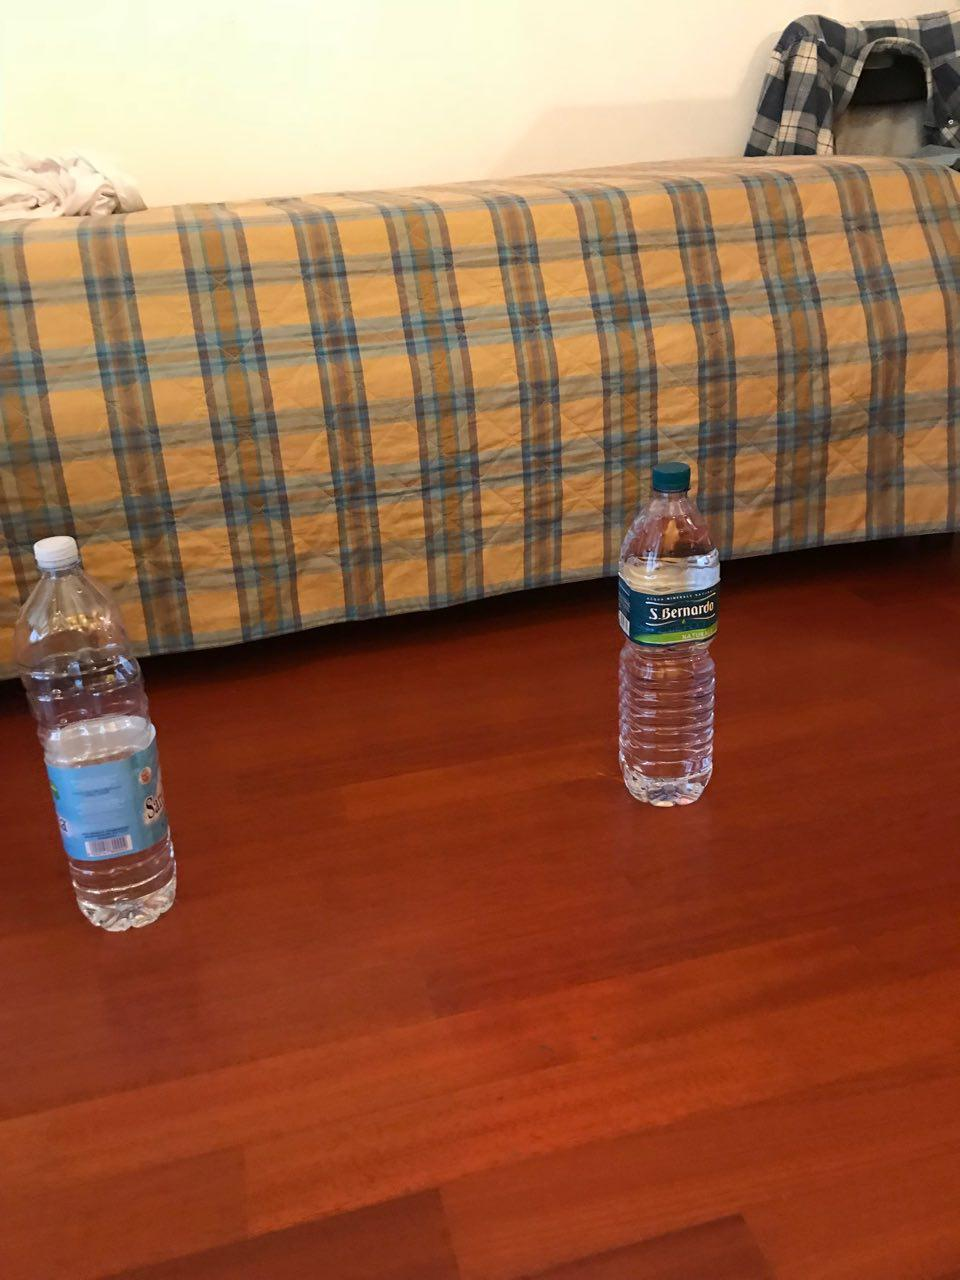san_bernardo: (616, 461, 720, 808)
